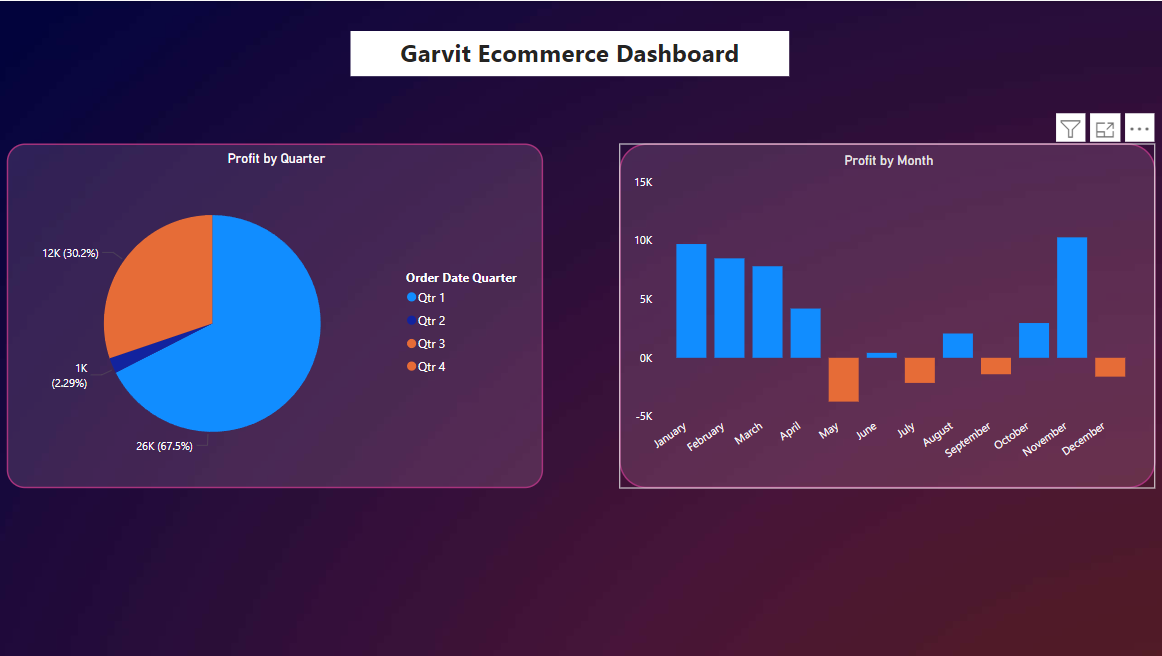

The dashboard page shown, as its layout file describes it:
{"tool":"powerbi","page":{"name":"Page 1","canvas":[1280,720],"ordinal":0},"visuals":[{"type":"textbox","box":[387,32.9,481.6,49.4],"z":0},{"type":"columnChart","title":"Profit by Month","fields":{"Y":["Sum(Details.Profit)"],"Category":["Orders.Order Date.Variation.Date Hierarchy.Month"]},"box":[682,156.4,588.7,378.7],"z":1},{"type":"pieChart","title":"Profit by Quarter","fields":{"Category":["Orders.Order Date.Variation.Date Hierarchy.Quarter"],"Y":["Sum(Details.Profit)"]},"box":[9.6,156.4,588.7,378.7],"z":2}]}

Visuals, with their boxes in screenshot pixels (x1, y1, x2, y2), scaled from the page's 1280x720 canvas onto the 1162x656 screenshot:
textbox: pyautogui.locateOnScreen(351, 30, 789, 75)
"Profit by Month" columnChart: pyautogui.locateOnScreen(619, 142, 1154, 488)
"Profit by Quarter" pieChart: pyautogui.locateOnScreen(9, 142, 543, 488)
